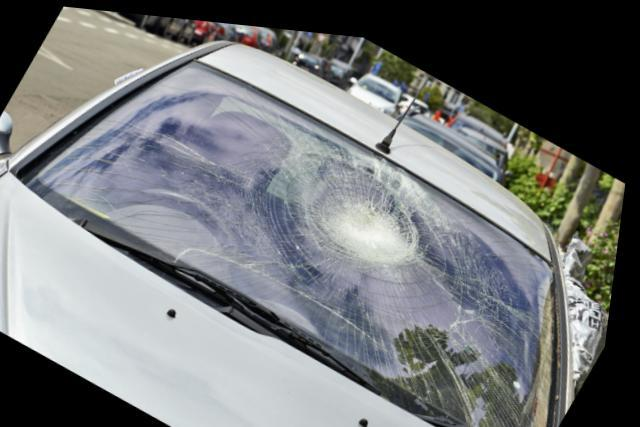glass shatter: (26, 57, 564, 427)
